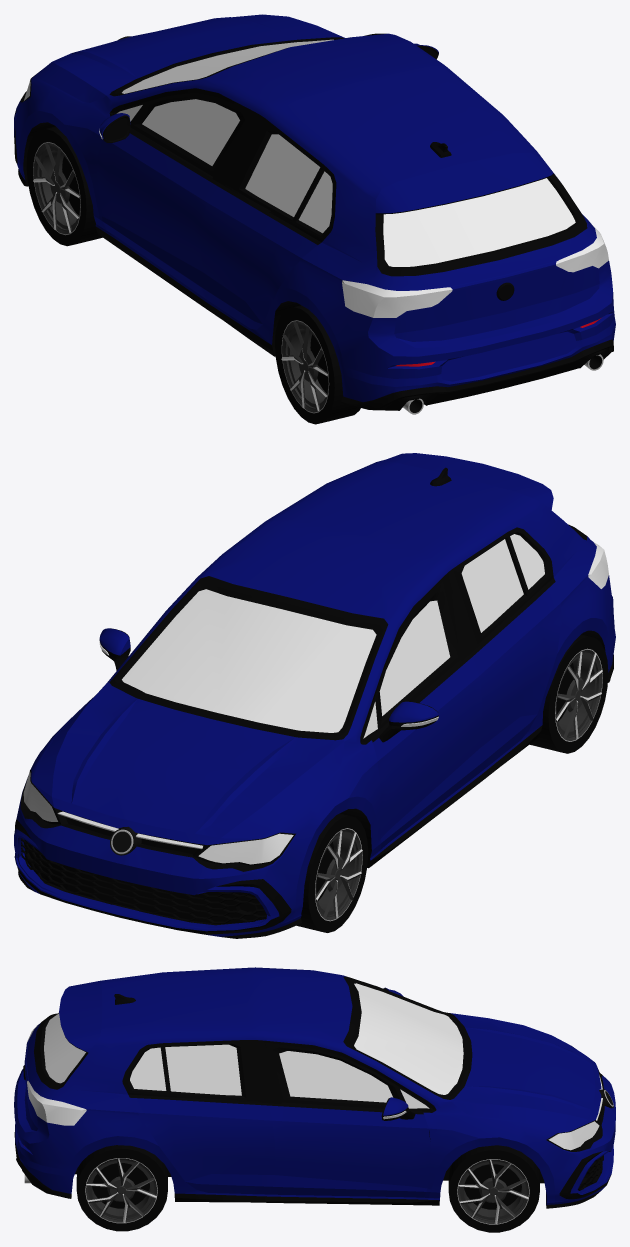
File: VORTEX HATCH.fbx
3 renders of one model, top to bottom at view 1: azimuth 30°, elevation 25°; view 2: azimuth 150°, elevation 25°; view 3: azimuth 270°, elevation 25°, orthographic. The views are drawn at different scales.
Visible parts, largest first — view 1: Plane.011, Plane.013, Plane.017, Plane.019, Plane.007, Plane.015, Plane.031, Plane.008, Plane.020, Plane.006, Circle.001, Circle (+5 smaller); view 2: Plane.011, Plane.013, Plane.017, Plane.019, Plane.015, Plane.031, Plane.008, Plane.020, Circle, Circle.001, Plane.007, Circle.005 (+6 smaller); view 3: Plane.011, Plane.024, Plane.037, Plane.013, Plane.033, Plane.036, Plane.029, Circle.016, Circle.002, Plane.038, Circle.015, Plane.007 (+6 smaller).
Part boxes in pixels (x1=…): Plane.011: x1=14, y1=14, x2=615, y2=412; Plane.013: x1=122, y1=39, x2=575, y2=266; Plane.017: x1=97, y1=113, x2=217, y2=298; Plane.019: x1=200, y1=186, x2=317, y2=329; Plane.007: x1=375, y1=152, x2=553, y2=213; Plane.015: x1=100, y1=88, x2=259, y2=186; Plane.031: x1=245, y1=134, x2=332, y2=233; Plane.008: x1=116, y1=99, x2=239, y2=165; Plane.020: x1=218, y1=115, x2=336, y2=244; Plane.006: x1=342, y1=223, x2=608, y2=317; Circle.001: x1=275, y1=305, x2=360, y2=424; Circle: x1=26, y1=126, x2=102, y2=246; Plane.011: x1=14, y1=461, x2=615, y2=938; Plane.013: x1=122, y1=589, x2=376, y2=732; Plane.017: x1=373, y1=657, x2=482, y2=849; Plane.019: x1=472, y1=582, x2=561, y2=773; Plane.015: x1=360, y1=573, x2=471, y2=744; Plane.031: x1=461, y1=534, x2=544, y2=632; Plane.008: x1=363, y1=600, x2=450, y2=738; Plane.020: x1=448, y1=527, x2=555, y2=656; Circle: x1=296, y1=813, x2=368, y2=932; Circle.001: x1=530, y1=634, x2=608, y2=753; Plane.007: x1=379, y1=453, x2=553, y2=509; Circle.005: x1=315, y1=829, x2=362, y2=920; Plane.011: x1=14, y1=967, x2=615, y2=1208; Plane.024: x1=269, y1=1097, x2=430, y2=1197; Plane.037: x1=130, y1=1097, x2=275, y2=1194; Plane.013: x1=44, y1=983, x2=463, y2=1094; Plane.033: x1=130, y1=1044, x2=241, y2=1095; Plane.036: x1=255, y1=1040, x2=436, y2=1120; Plane.029: x1=279, y1=1051, x2=429, y2=1108; Circle.016: x1=448, y1=1145, x2=539, y2=1232; Circle.002: x1=76, y1=1145, x2=167, y2=1231; Plane.038: x1=122, y1=1040, x2=268, y2=1105; Circle.015: x1=457, y1=1159, x2=529, y2=1223; Plane.007: x1=59, y1=980, x2=102, y2=1052.
Size of the model in its own units: 211 by 146 by 427.
